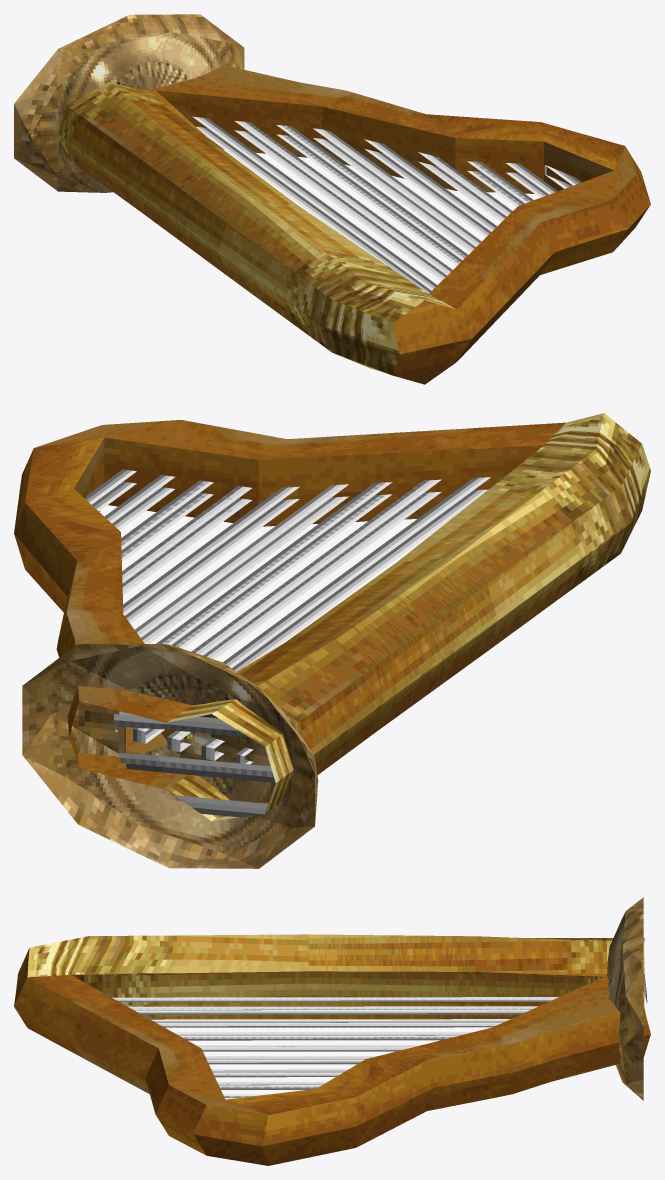
File: harp.glb
The picture shows the model from 3 angles, top to bottom: view 1: azimuth 30°, elevation 25°; view 2: azimuth 150°, elevation 25°; view 3: azimuth 270°, elevation 25°; orthographic projection. The views are drawn at different scales.
Visible parts, largest first — view 1: harp; view 2: harp; view 3: harp.
Boxes of the visible parts, box(x1,y1,x2,y2) form: harp: box(14, 14, 650, 384); harp: box(14, 413, 650, 868); harp: box(14, 897, 650, 1165).
Bounding box in the file's own units: 1.42 × 0.5563 × 1.89.
Materials: 1 (1 with a texture image).
